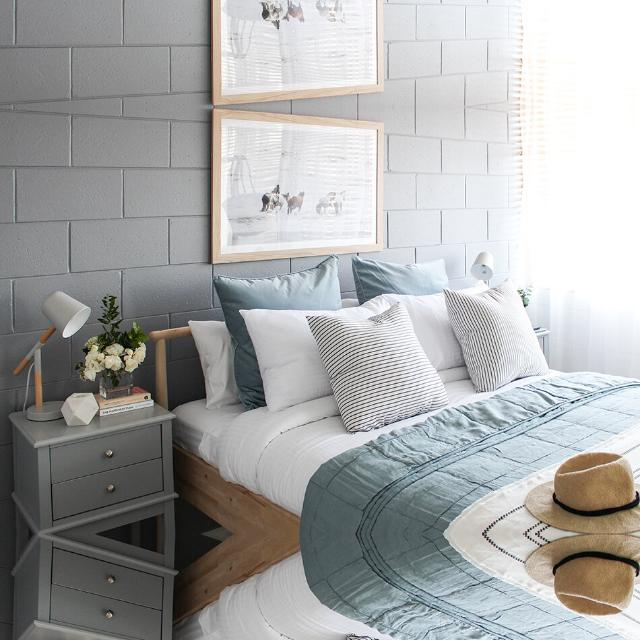pillow: (210, 252, 346, 405), (308, 295, 452, 433), (446, 279, 554, 394), (237, 306, 330, 413), (355, 251, 449, 300)
